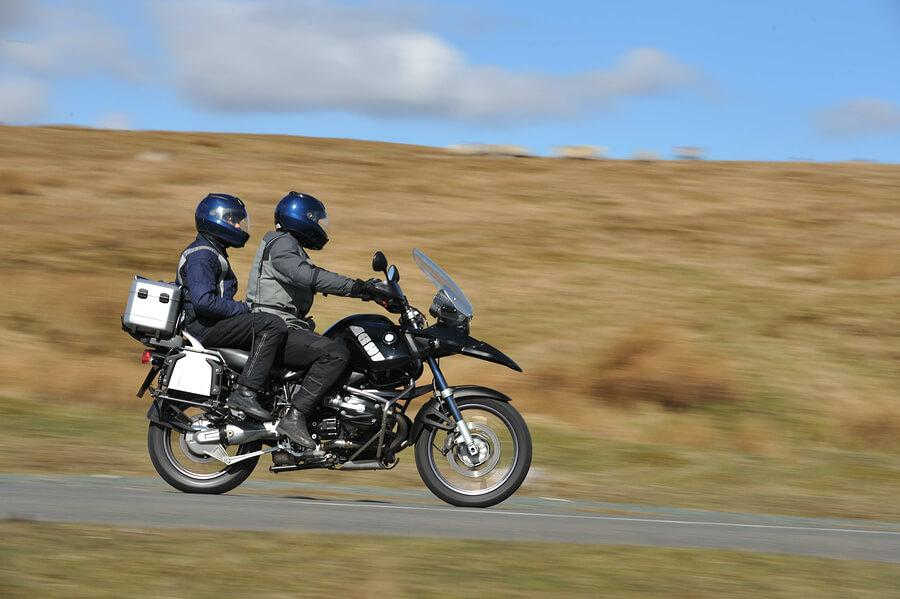helmet: (268, 187, 339, 258), (184, 188, 255, 253)
